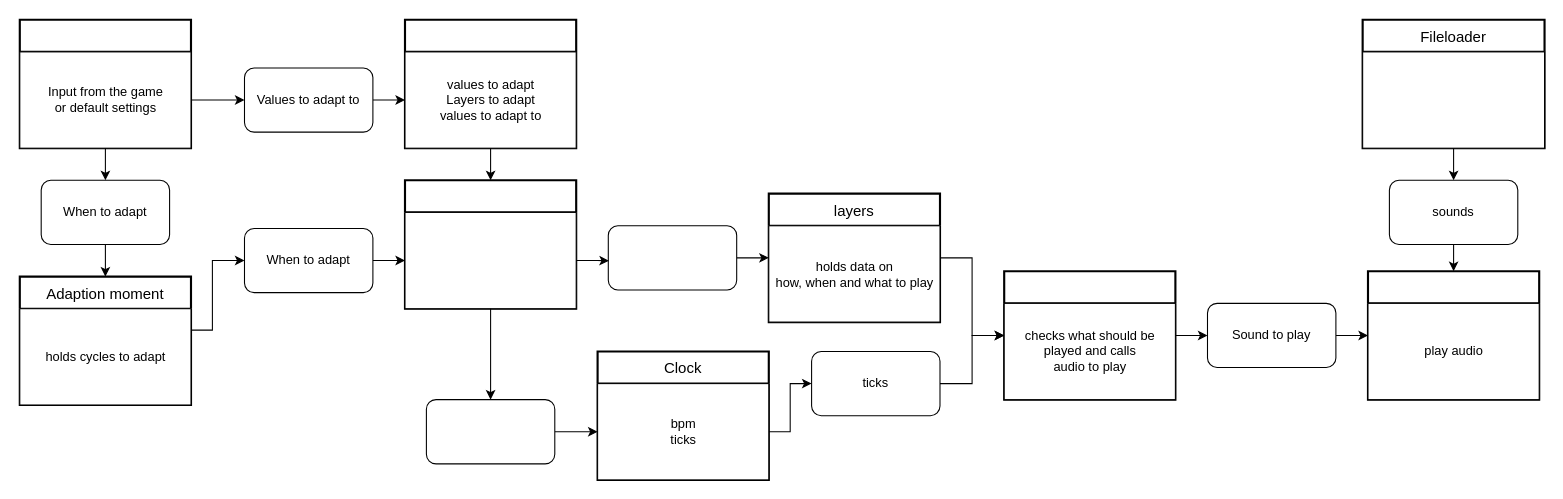
The diagram is 1563 pixels wide and 499 high, and some of its shapes have lost their labels. The shapes that lost their labels are listed below. From the top down, each one's box as (x1, y1, x2, y2) in pixels, then its label:
(18, 18, 192, 149): ExternalInput
(403, 18, 577, 149): Parameters
(1362, 51, 1545, 148): automatically loads and parses files from given folder location(s)
(403, 179, 577, 309): cycles
(404, 211, 576, 309): List parameters
(607, 225, 737, 290): layerdata
(1003, 270, 1176, 400): Sequencer
(1366, 270, 1540, 400): AudioPlayer
(425, 399, 555, 464): general data (bpm)
